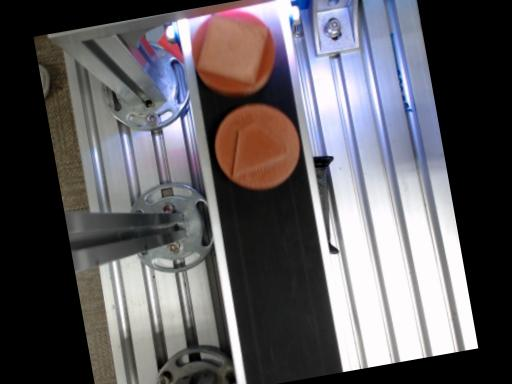Brown_Waper: (215, 102, 300, 189), (193, 12, 275, 94)
